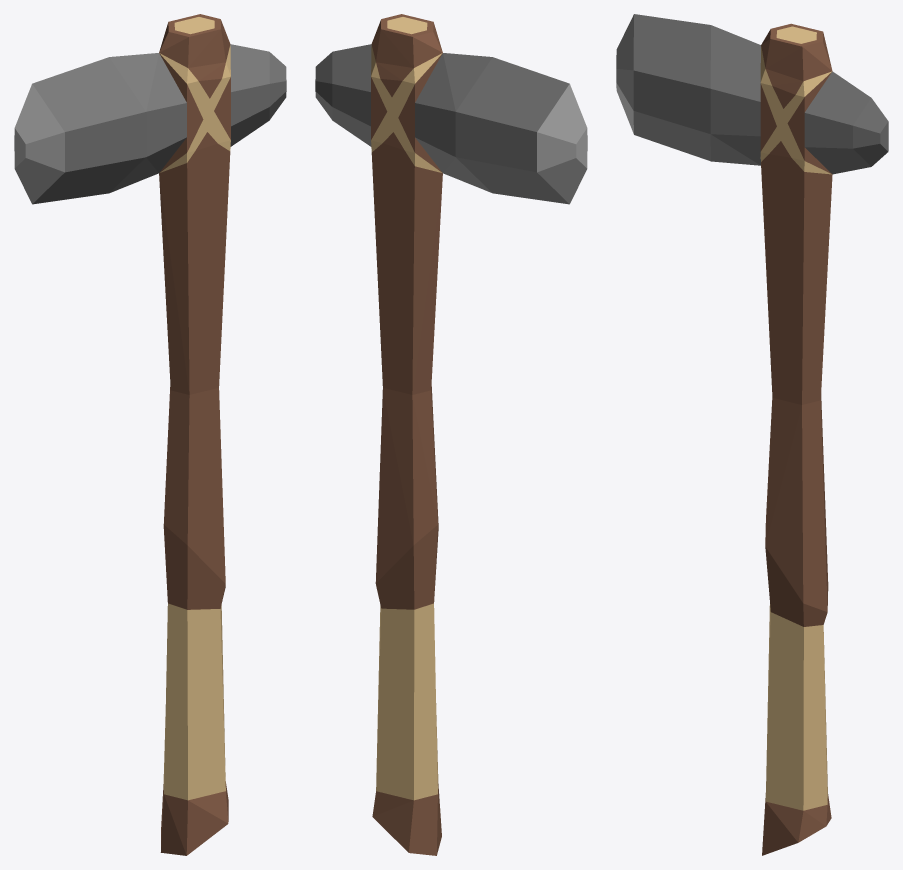
The model's file is Celt.fbx.
The picture shows the model from 3 angles, left to right: view 1: azimuth 30°, elevation 25°; view 2: azimuth 150°, elevation 25°; view 3: azimuth 330°, elevation 25°; orthographic projection.
Parts seen in each view (by area): view 1: Celt; view 2: Celt; view 3: Celt.
Part boxes in pixels (<box>): Celt: <box>14,14,286,855</box>; Celt: <box>315,14,587,855</box>; Celt: <box>616,14,888,855</box>.
Size of the model in its own units: 0.047 by 0.1964 by 0.5671.
